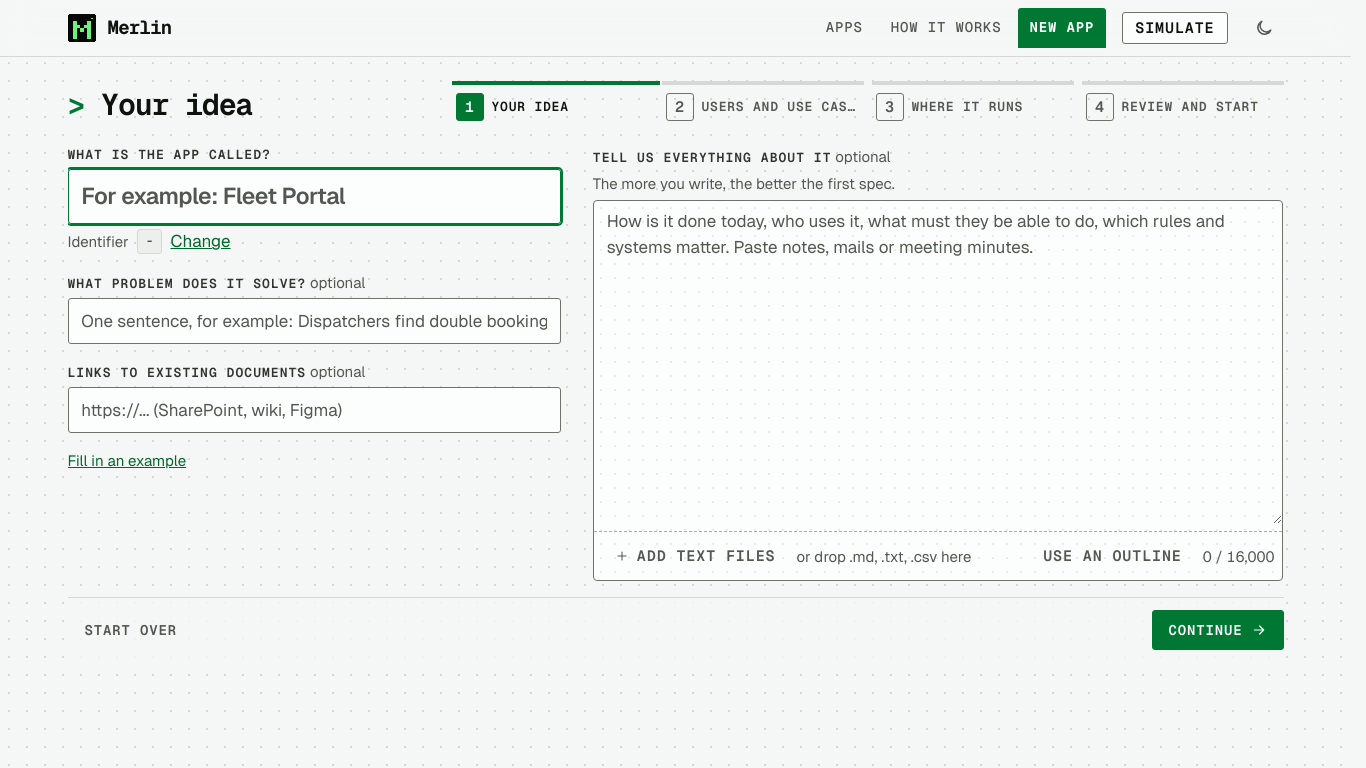
Merlin › asks for a name before the wizard continues
What coordinates should you click on to do the following:
click the button "Continue"
I would click on:
 (1218, 630)
Its box is [1152,610,1284,650].
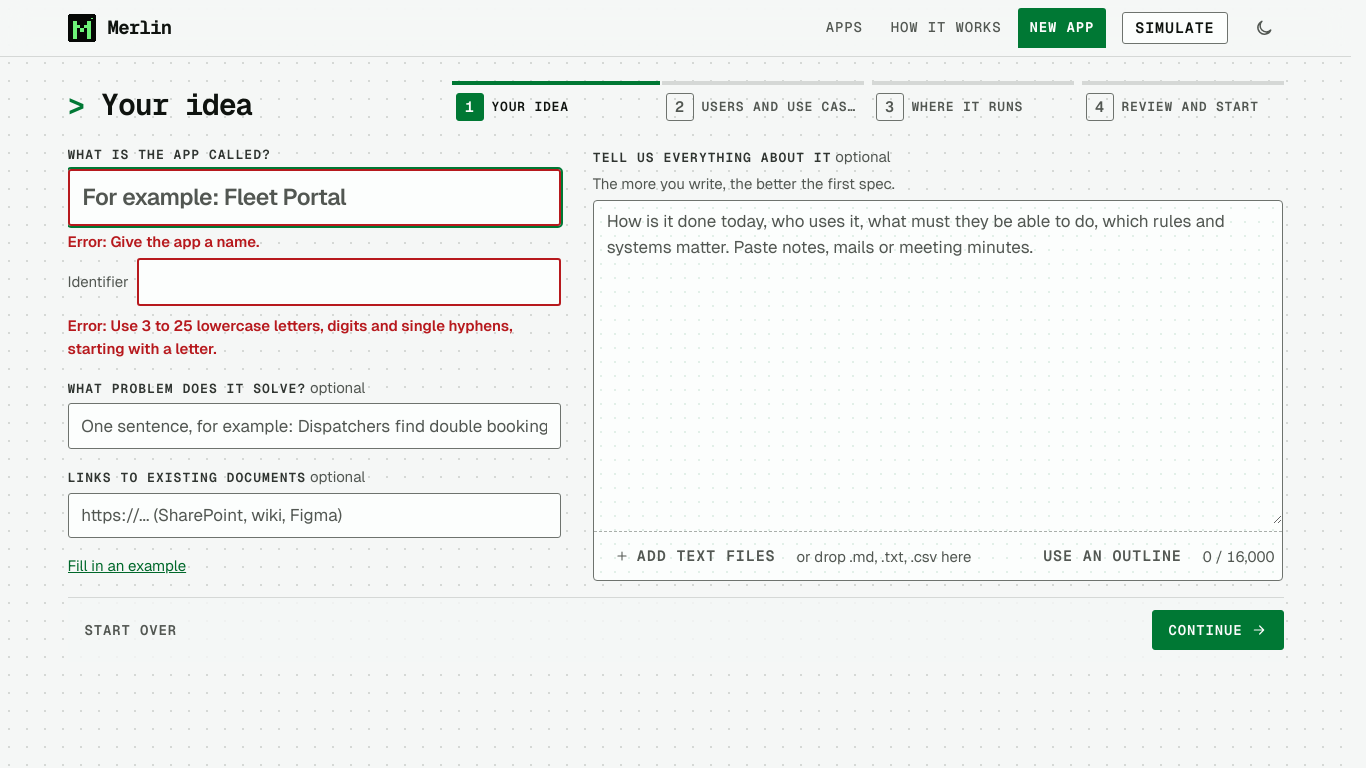
Now the text "Give the app a name." is shown, box [110,232,260,251]
